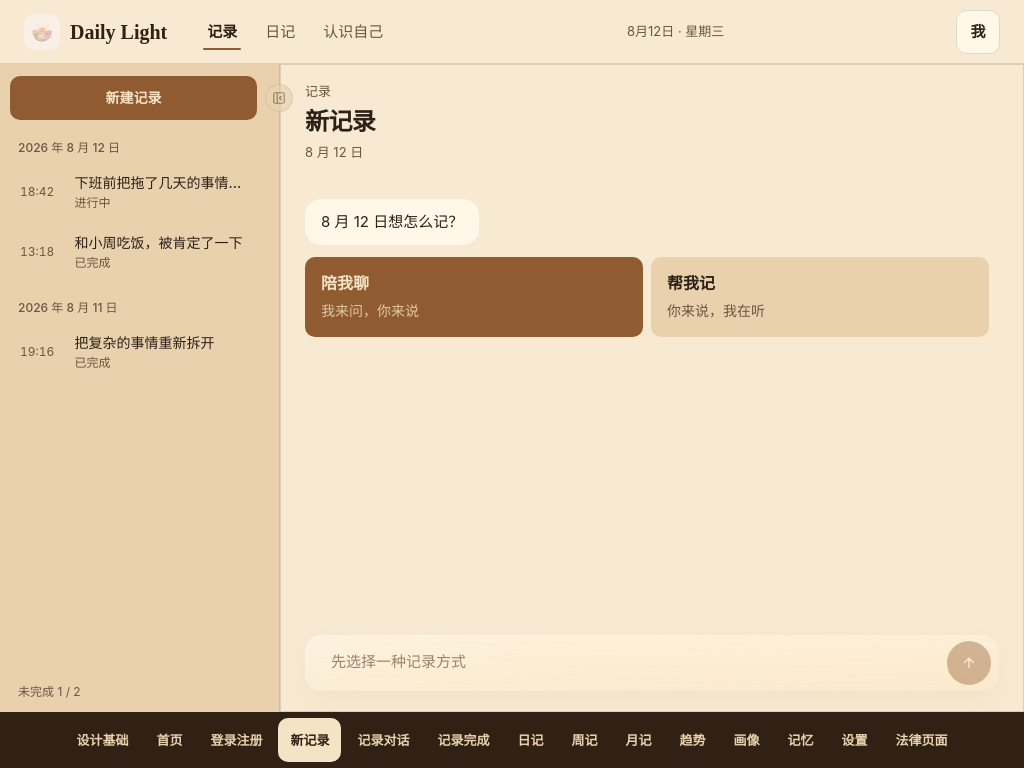
Test case: Daily Light 视觉验收入口 › 在六个零写入视觉页面之间切换
The width and height of the screenshot is (1024, 768).
Expected: the text "8 月 12 日想怎么记？" is shown, [305,199,479,245]
Click the button "记录对话" at (384, 740), box [346,718,422,762]
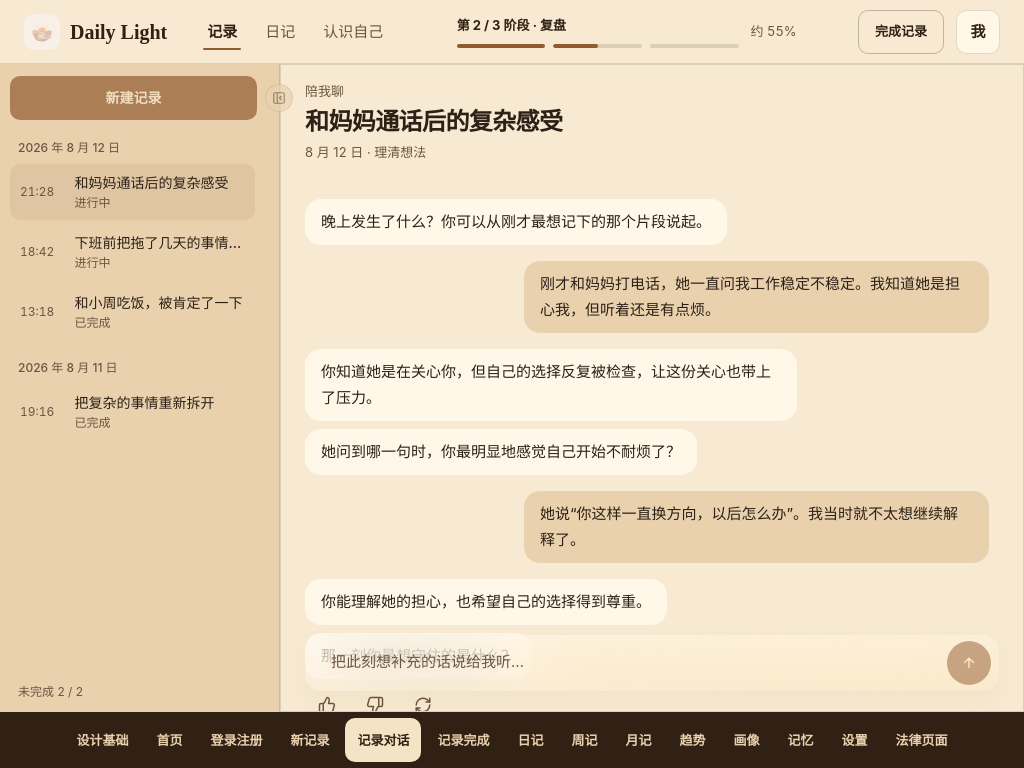
Result: the heading "和妈妈通话后的复杂感受" is shown at [305,107,562,136]
Click the button "记录完成" at (464, 740), box [426,718,502,762]
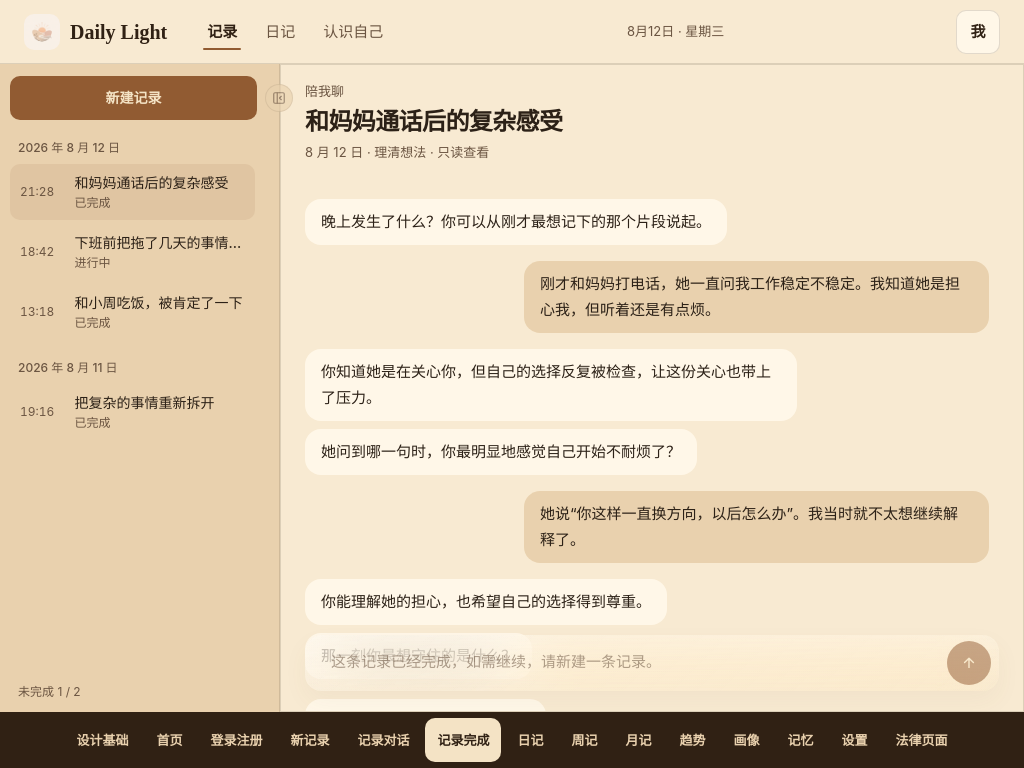
Click the 2nd button "日记" at (530, 740), box [506,718,556,762]
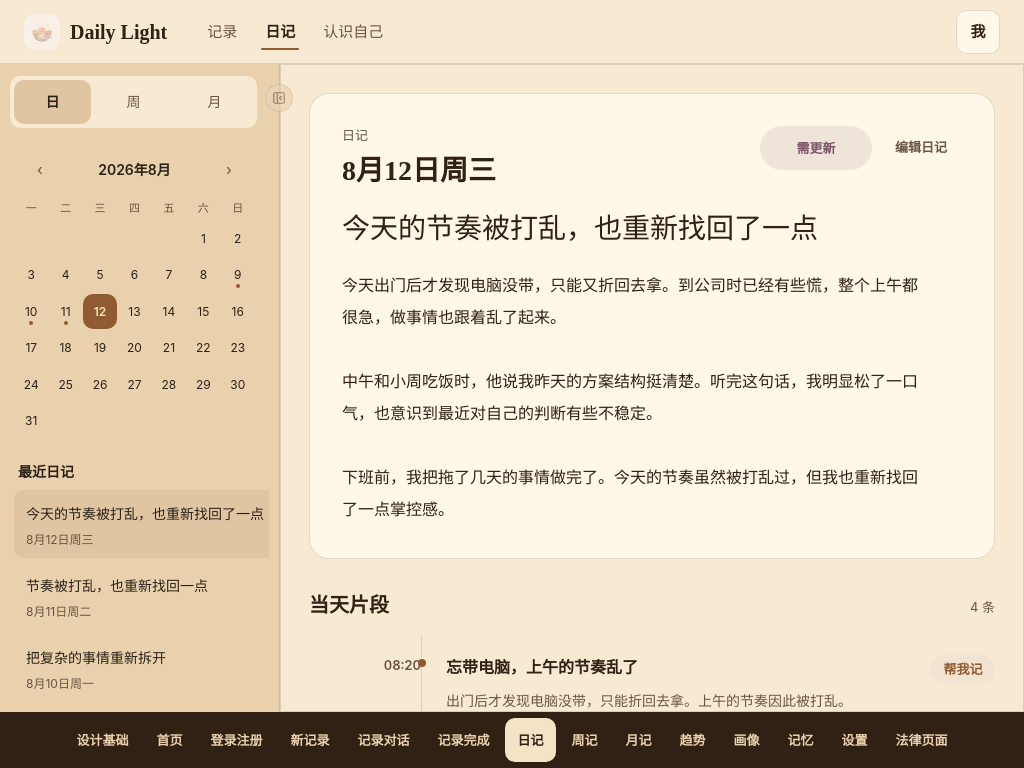
Result: the heading "8月12日周三" is shown at [342,154,496,187]
Click the button "周记" at (584, 740), box [560,718,610,762]
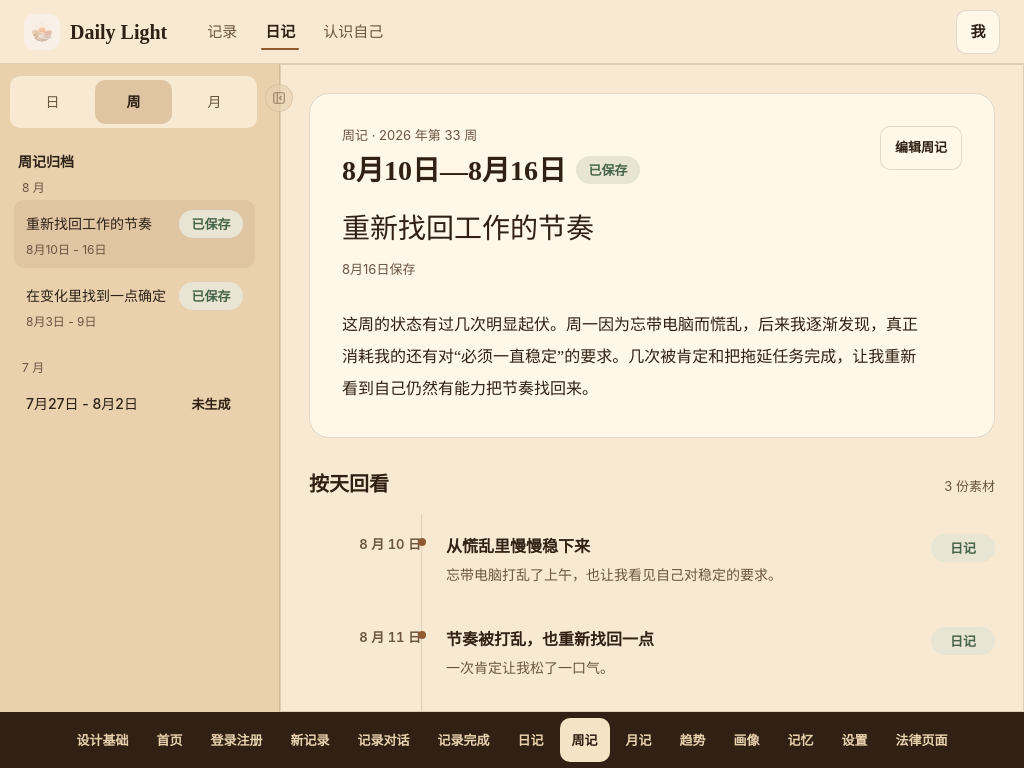
Result: the element with test id "journal-week-report-workspace" is shown
Click the button "月记" at (638, 740), box [614,718,664,762]
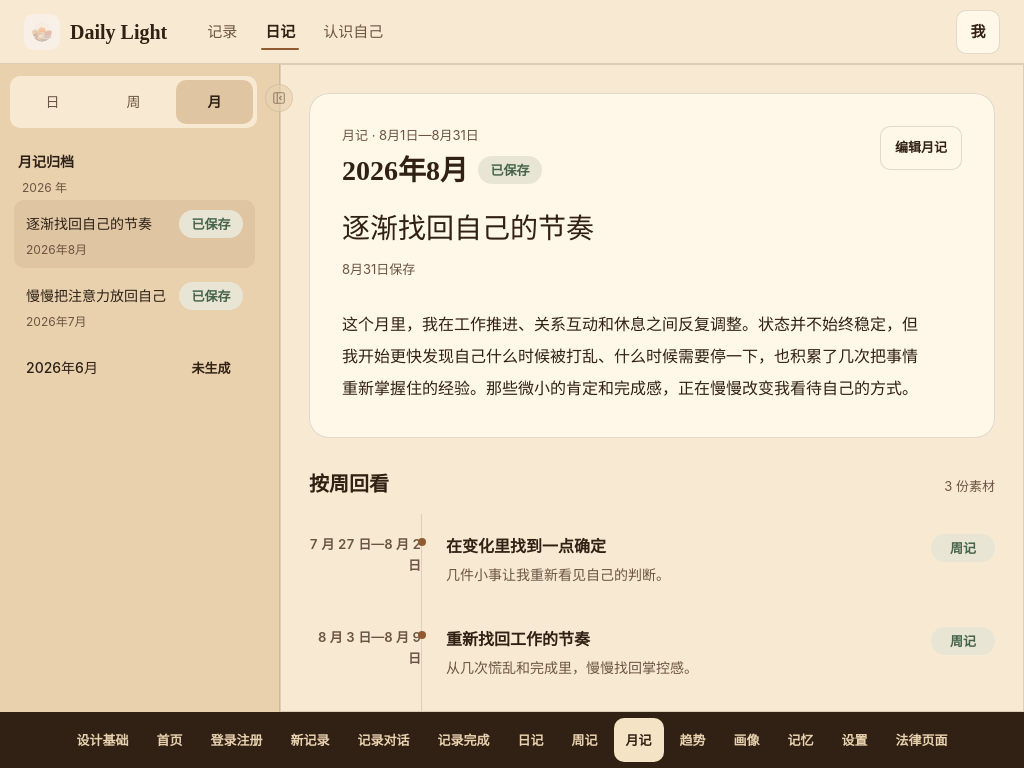
Result: the element with test id "journal-month-report-workspace" is shown
